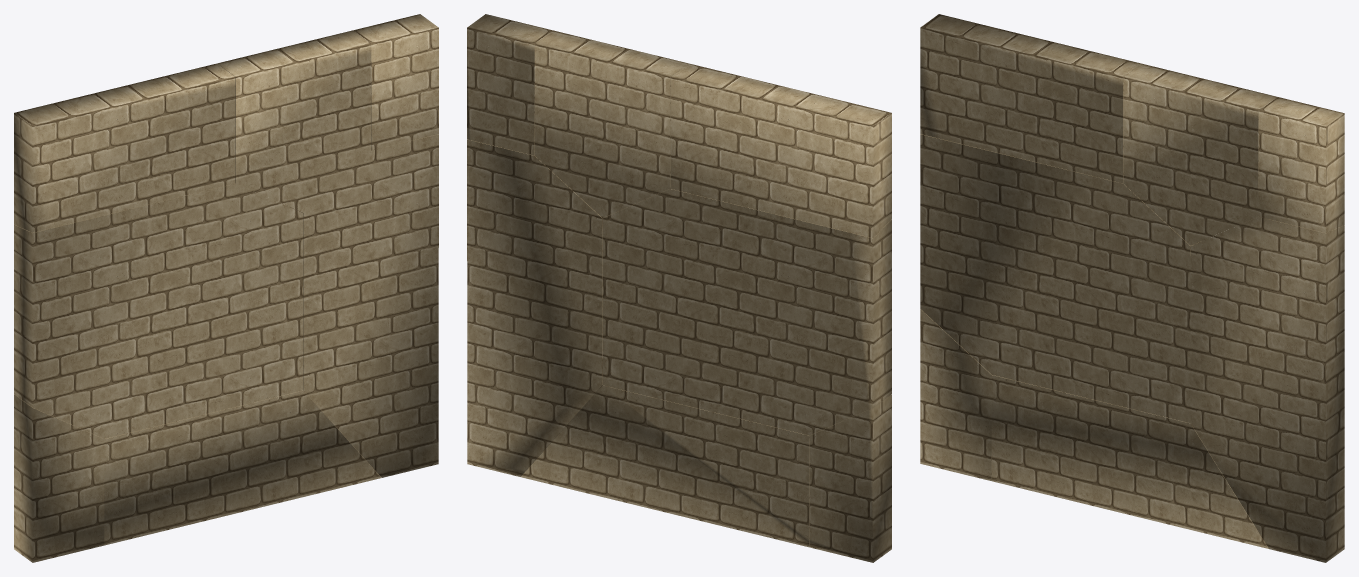
The model's file is Brick_Wall_Breakable_drop.fbx.
3 renders of one model, left to right at view 1: azimuth 30°, elevation 25°; view 2: azimuth 150°, elevation 25°; view 3: azimuth 330°, elevation 25°, orthographic.
Visible parts, largest first — view 1: Brick_Wall_Breakable_cell.003, Brick_Wall_Breakable_cell, Brick_Wall_Breakable_cell.004, Brick_Wall_Breakable_cell.005, Brick_Wall_Breakable_cell.002, Brick_Wall_Breakable_cell.006, Brick_Wall_Breakable_cell.001; view 2: Brick_Wall_Breakable_cell.003, Brick_Wall_Breakable_cell, Brick_Wall_Breakable_cell.004, Brick_Wall_Breakable_cell.005, Brick_Wall_Breakable_cell.002, Brick_Wall_Breakable_cell.006, Brick_Wall_Breakable_cell.001; view 3: Brick_Wall_Breakable_cell.003, Brick_Wall_Breakable_cell, Brick_Wall_Breakable_cell.005, Brick_Wall_Breakable_cell.004, Brick_Wall_Breakable_cell.002, Brick_Wall_Breakable_cell.001, Brick_Wall_Breakable_cell.006.
Part boxes in pixels (x1,y1,x2,y2): Brick_Wall_Breakable_cell.003: (14, 183, 303, 438); Brick_Wall_Breakable_cell: (290, 134, 438, 477); Brick_Wall_Breakable_cell.004: (14, 63, 235, 232); Brick_Wall_Breakable_cell.005: (103, 390, 380, 545); Brick_Wall_Breakable_cell.002: (217, 30, 371, 212); Brick_Wall_Breakable_cell.006: (14, 394, 104, 562); Brick_Wall_Breakable_cell.001: (353, 14, 438, 150); Brick_Wall_Breakable_cell.003: (602, 189, 891, 435); Brick_Wall_Breakable_cell: (467, 139, 602, 476); Brick_Wall_Breakable_cell.004: (670, 63, 891, 237); Brick_Wall_Breakable_cell.005: (521, 385, 809, 547); Brick_Wall_Breakable_cell.002: (534, 30, 688, 217); Brick_Wall_Breakable_cell.006: (809, 394, 891, 562); Brick_Wall_Breakable_cell.001: (467, 14, 552, 155); Brick_Wall_Breakable_cell.003: (920, 134, 1208, 423); Brick_Wall_Breakable_cell: (1190, 216, 1344, 562); Brick_Wall_Breakable_cell.005: (991, 375, 1268, 548); Brick_Wall_Breakable_cell.004: (920, 14, 1141, 183); Brick_Wall_Breakable_cell.002: (1123, 63, 1276, 245); Brick_Wall_Breakable_cell.001: (1258, 97, 1344, 232); Brick_Wall_Breakable_cell.006: (920, 309, 991, 480).
Size of the model in its own units: 348 by 358 by 27.77.
